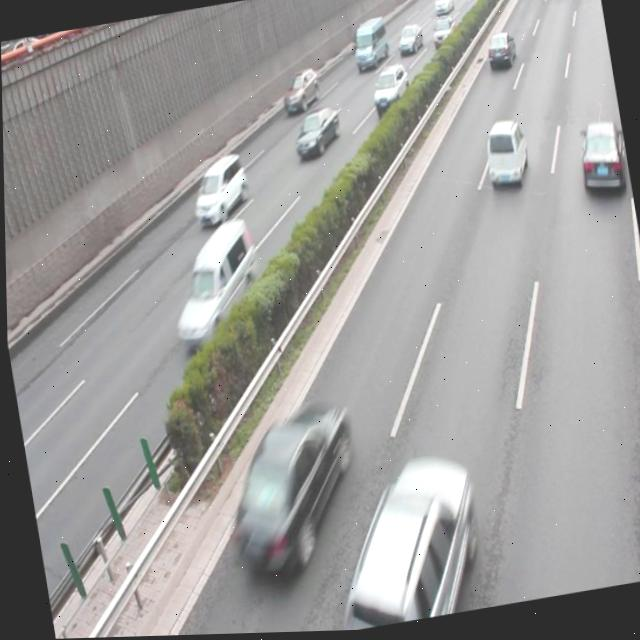car: (320, 454, 483, 633), (212, 405, 366, 587), (572, 121, 627, 203), (289, 104, 343, 162), (367, 62, 412, 118), (278, 68, 321, 118), (482, 32, 518, 75)
truck: (157, 217, 267, 354), (185, 152, 251, 229), (479, 120, 531, 193)
